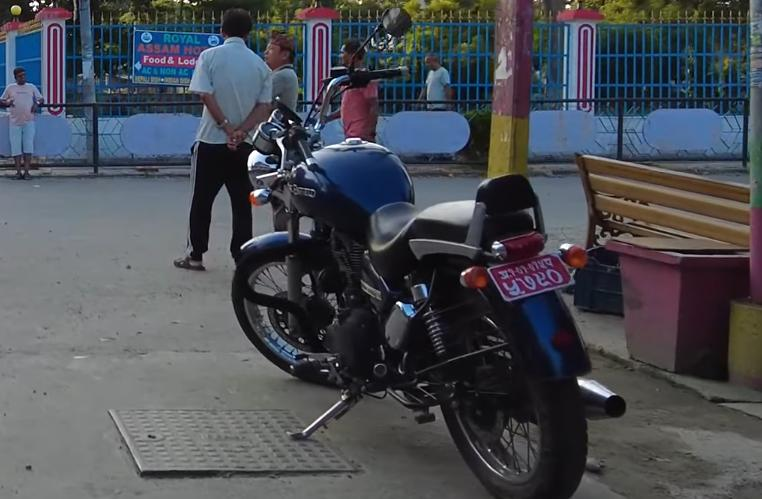bike: (228, 1, 629, 499)
